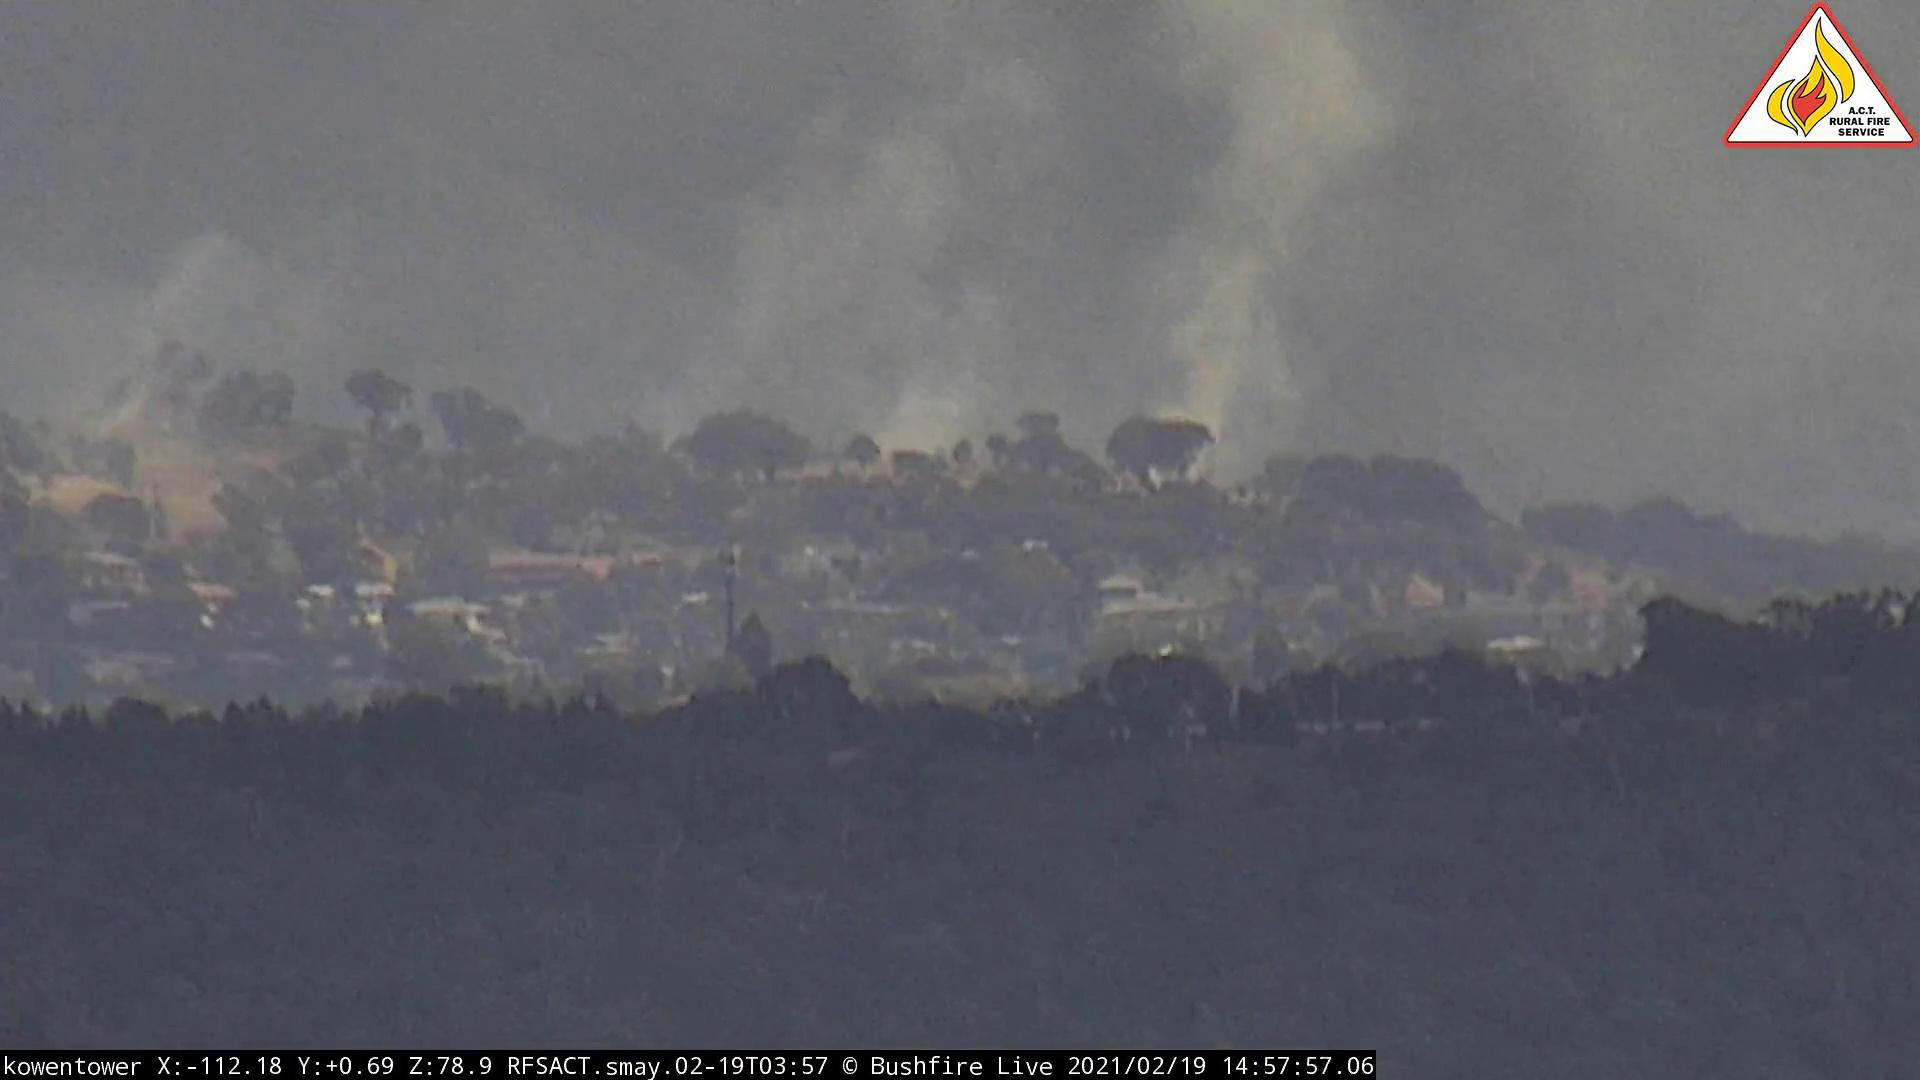Smoke: (621, 3, 1480, 506), (3, 206, 496, 533)
